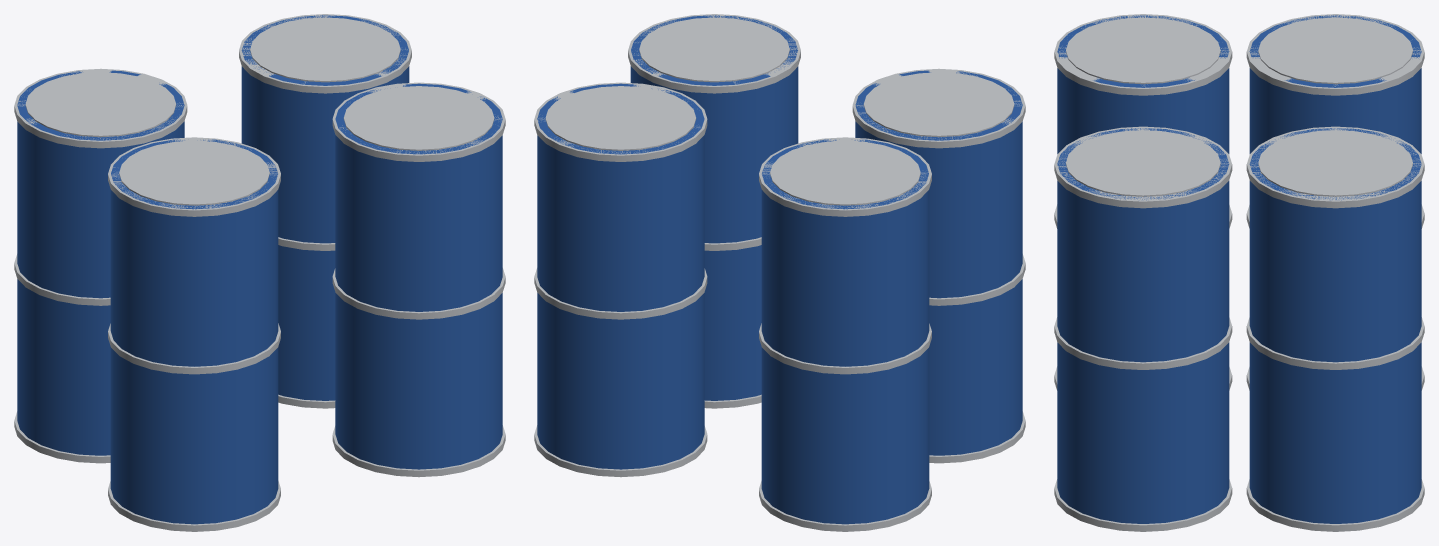
The model's file is load-gma-drums.glb.
3 renders of one model, left to right at view 1: azimuth 30°, elevation 25°; view 2: azimuth 150°, elevation 25°; view 3: azimuth 270°, elevation 25°, orthographic. The views are drawn at different scales.
Visible parts, largest first — view 1: load-drums; view 2: load-drums; view 3: load-drums.
Part boxes in pixels (box(x1,y1,x2,y2)): load-drums: box(14, 14, 505, 531); load-drums: box(534, 14, 1025, 531); load-drums: box(1054, 14, 1424, 531).
Bounding box in the file's own units: 1.22 × 1 × 1.02.
